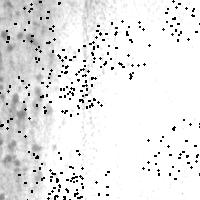pitted_surface: (1, 1, 54, 189), (78, 1, 119, 197), (123, 1, 197, 75), (35, 45, 93, 105), (142, 119, 200, 178), (42, 56, 100, 114), (89, 20, 148, 77), (18, 150, 78, 200), (6, 0, 59, 46), (47, 169, 107, 200), (30, 166, 84, 200), (0, 76, 28, 135), (162, 0, 200, 39)
